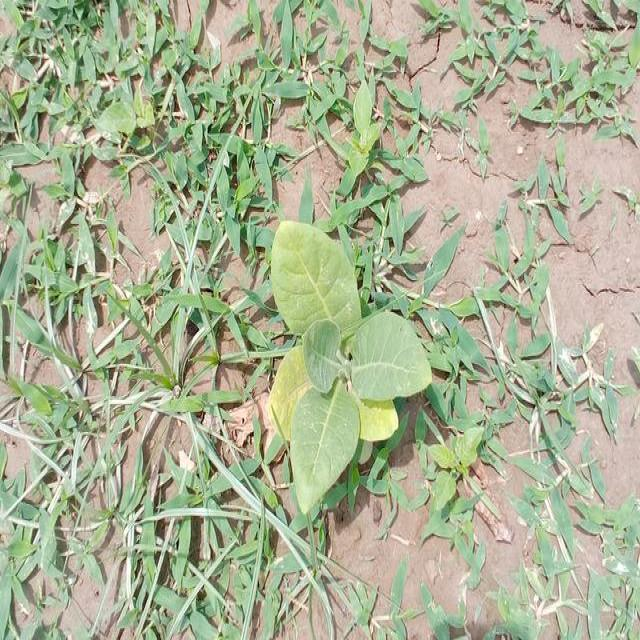crop: (266, 218, 429, 500)
